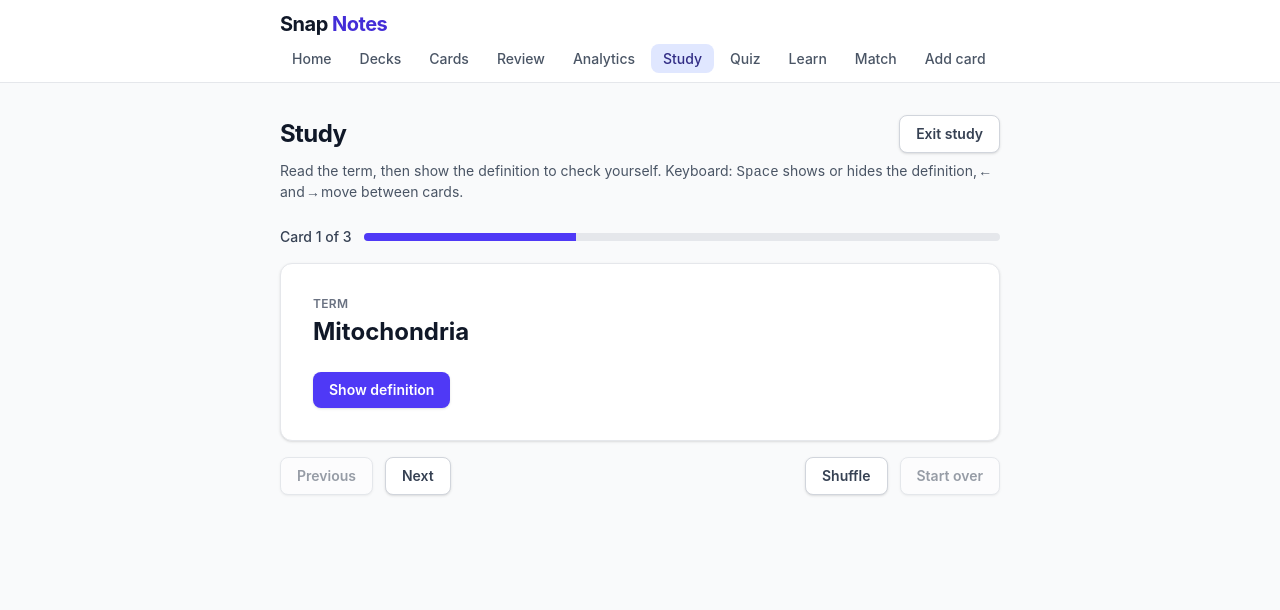
Test: StudyPage › shows the term first and reveals the definition on request
The width and height of the screenshot is (1280, 610).
Expected: the text "Card 1 of 3" is shown, [280,227,352,247]
What coordinates should you click on to do the following:
click the button "Show definition"
I would click on:
 (382, 390)
Its box is [313,372,450,408].
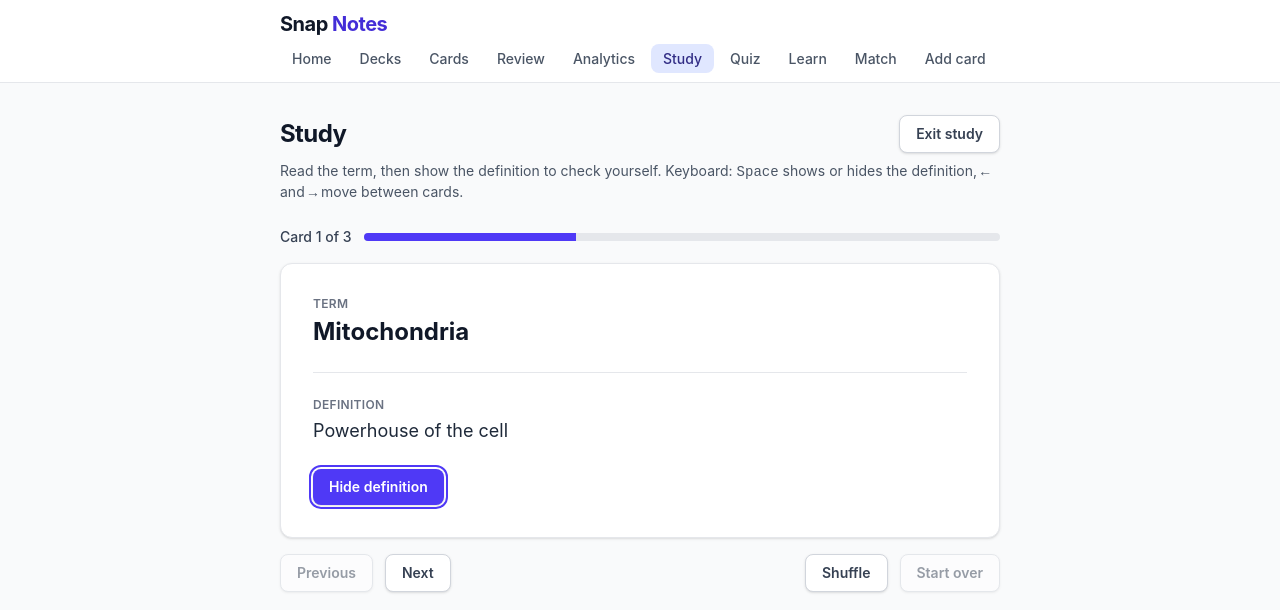
Now the element with id "study-definition" is shown, box [313,372,967,445]
Now the element with id "study-definition" shows "Powerhouse of the cell", box [313,420,508,441]
Now the button "Hide definition" is expanded
What coordinates should you click on to do the following:
click the button "Hide definition"
I would click on:
 (378, 487)
Its box is [313,469,444,505].
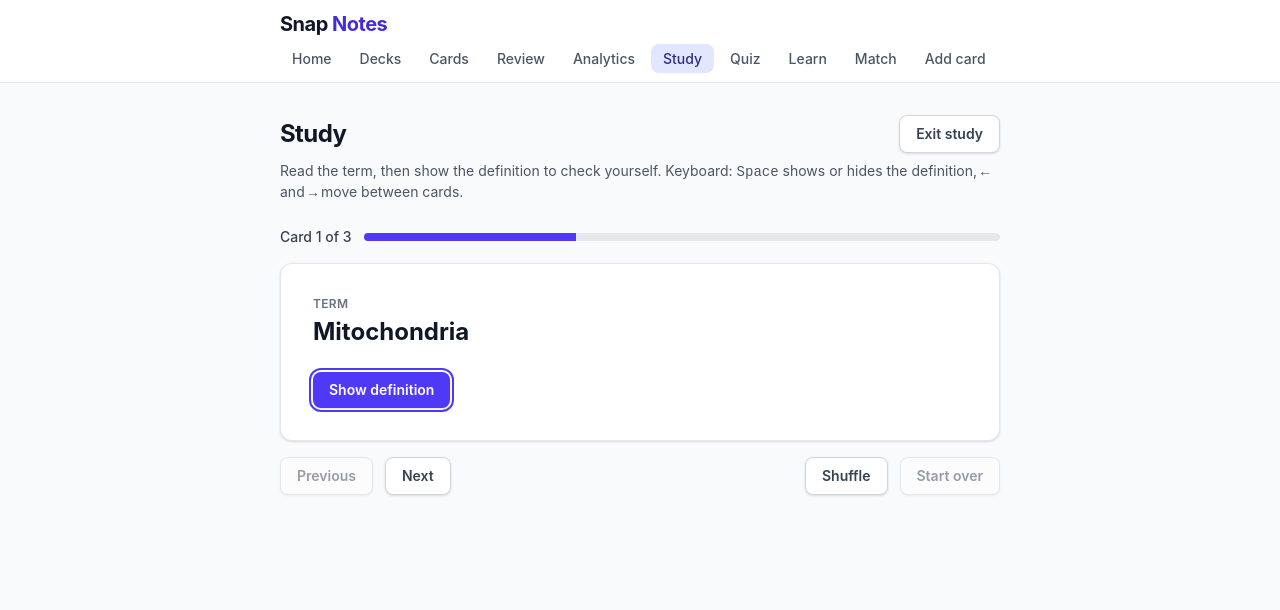
Now the element with id "study-definition" is gone
